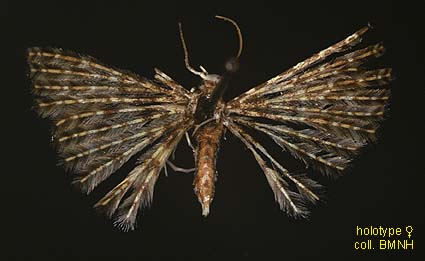Alucitidae: (22, 12, 389, 233)
moth: (20, 10, 387, 231)
